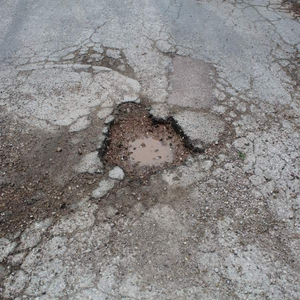pothole: (102, 109, 187, 176)
